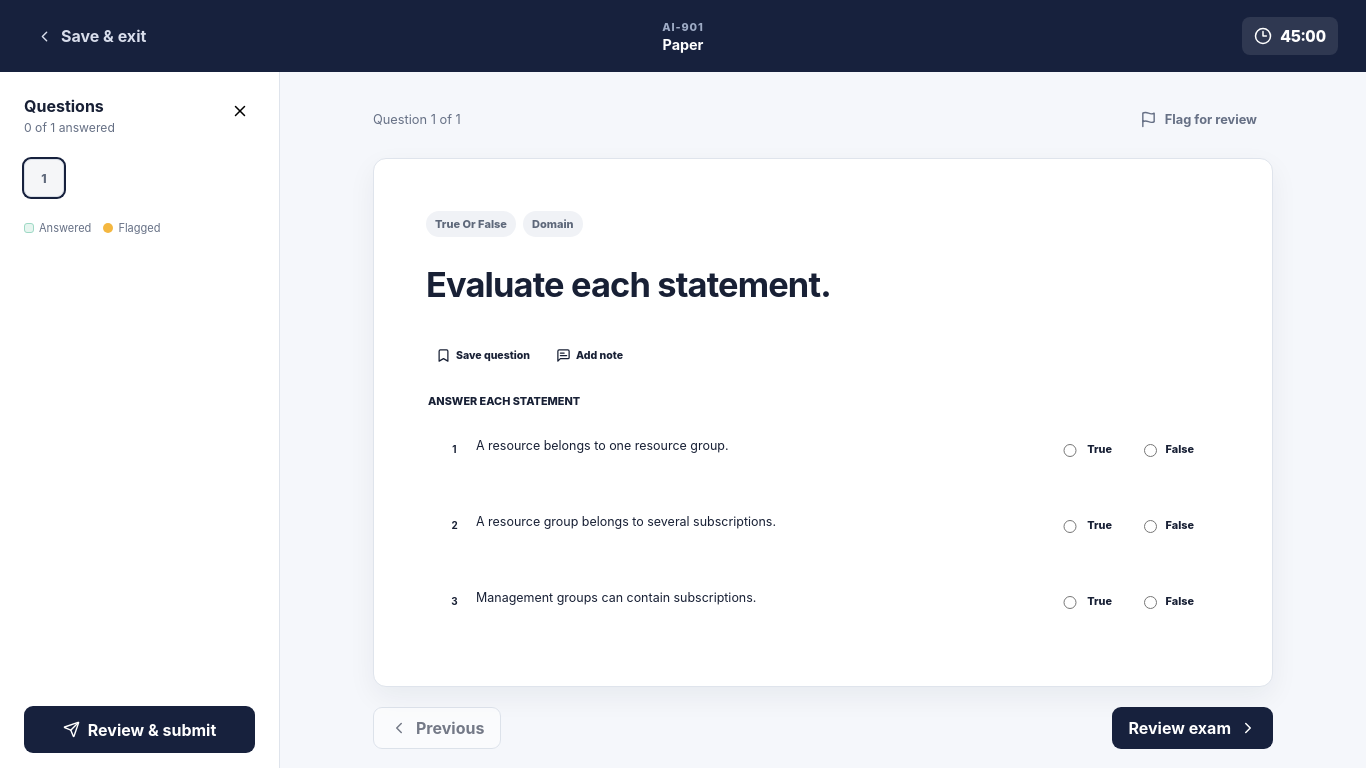
ExamPage confidence setting › counts a statement group as answered only after all rows are complete
Check: the text "0 of 1 answered" is shown, box [24, 120, 115, 135]
What coordinates should you click on to do the following:
click the 1st radio button labelled "True"
I would click on:
 (1070, 451)
Its box is [1061, 444, 1079, 457].
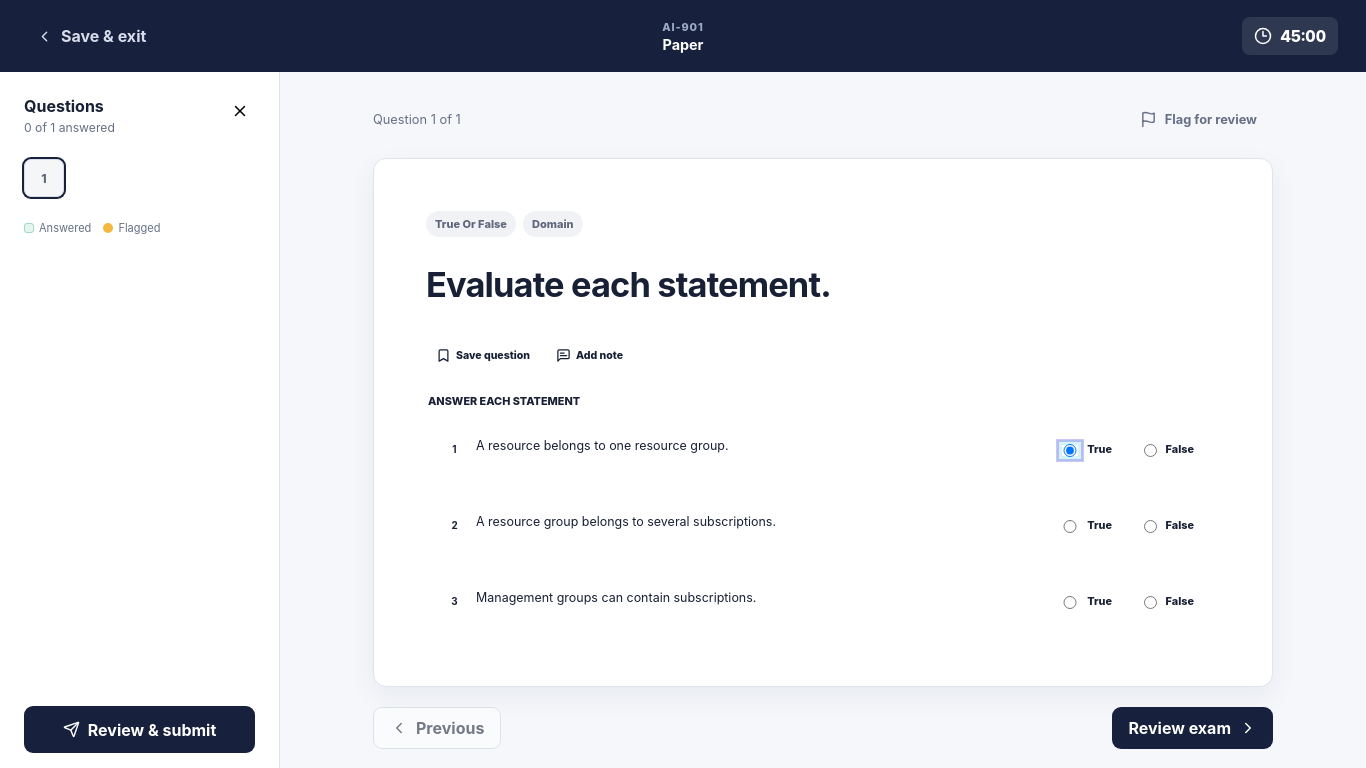
Check: the text "0 of 1 answered" is shown, box [24, 120, 115, 135]
What coordinates should you click on to do the following:
click the 2nd radio button labelled "False"
I would click on:
 (1150, 527)
Its box is [1143, 520, 1158, 533].
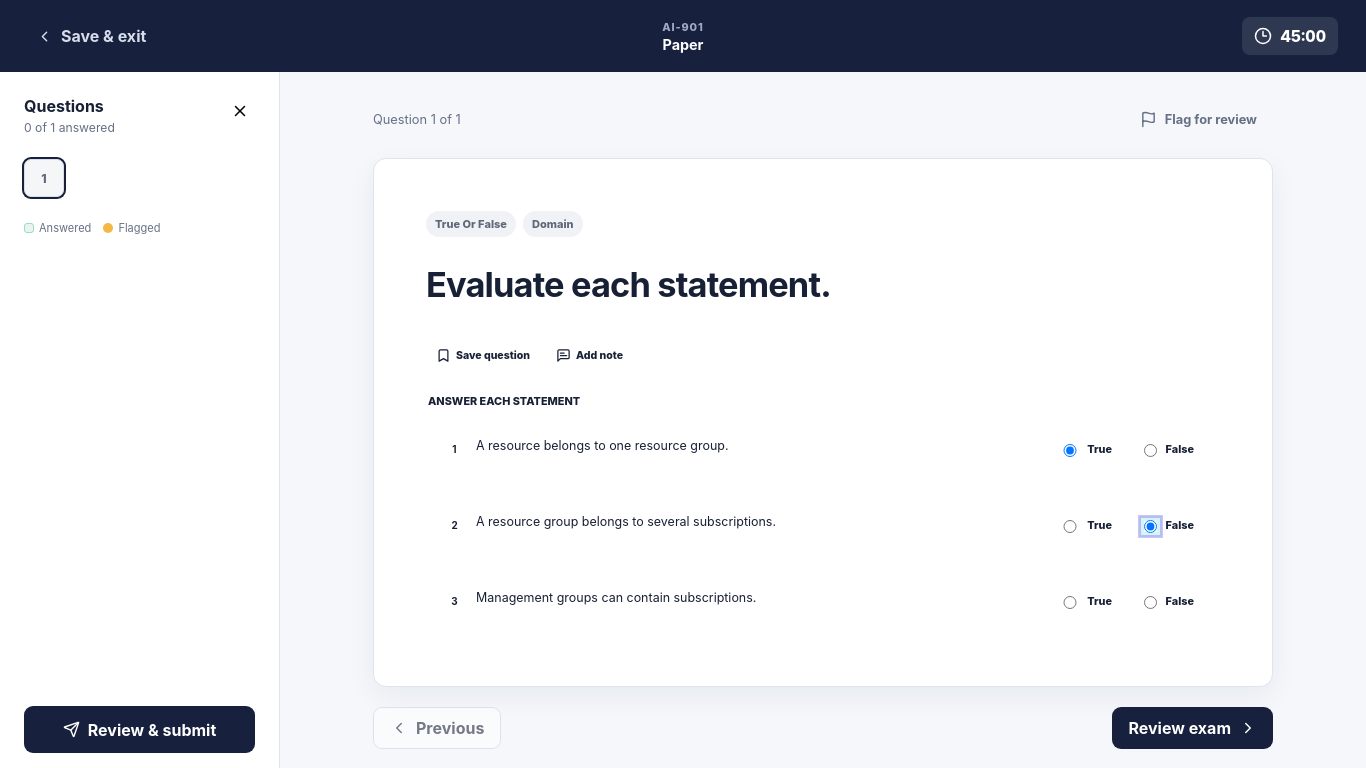
What coordinates should you click on to do the following:
click the 3rd radio button labelled "True"
I would click on:
 (1070, 603)
Its box is [1061, 596, 1079, 609].
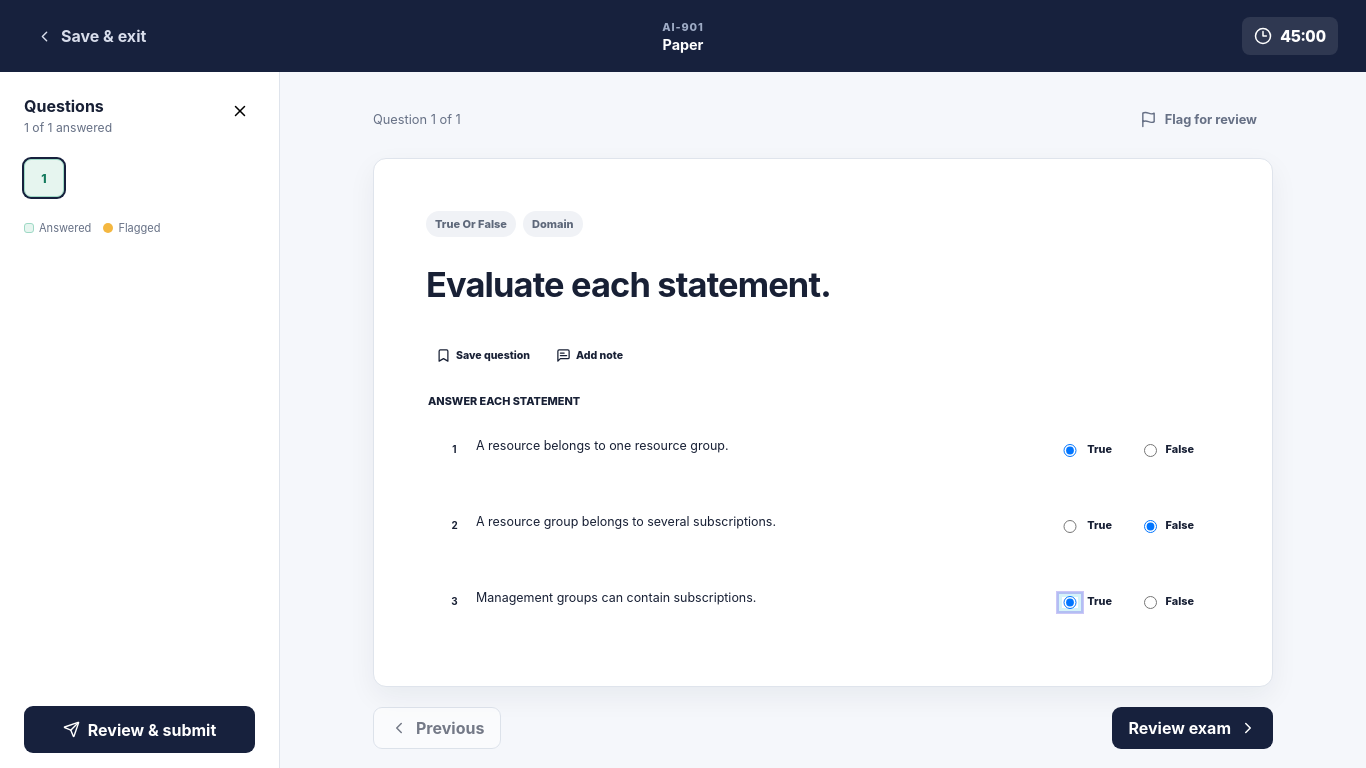
Check: the text "1 of 1 answered" is shown, box [24, 120, 112, 135]
